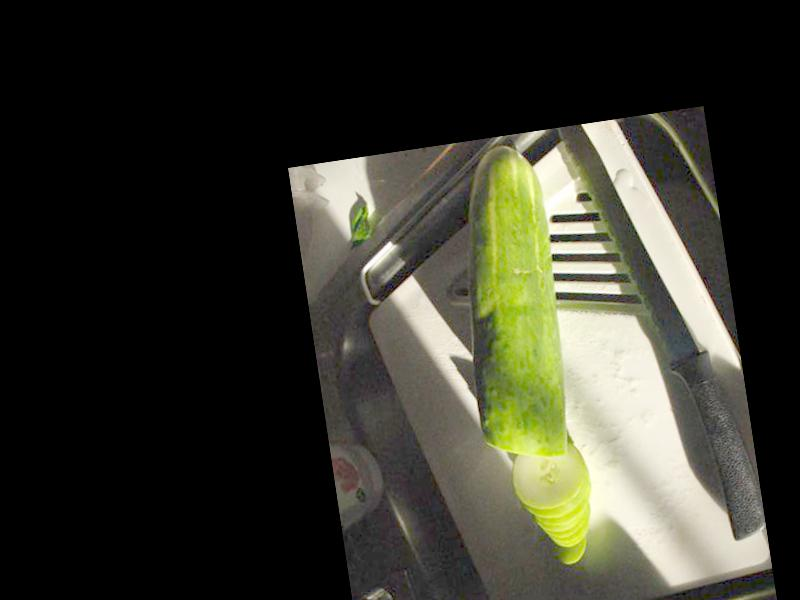Cucumber: (440, 140, 582, 468)
